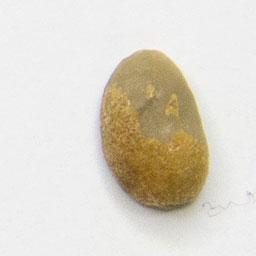longberry: (96, 45, 212, 215)
